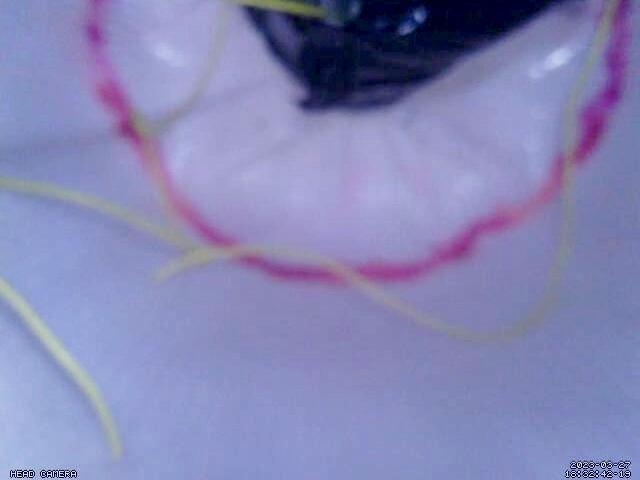head: (80, 0, 635, 288)
